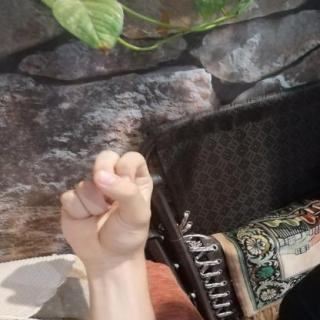QAAF: (46, 142, 164, 272)
